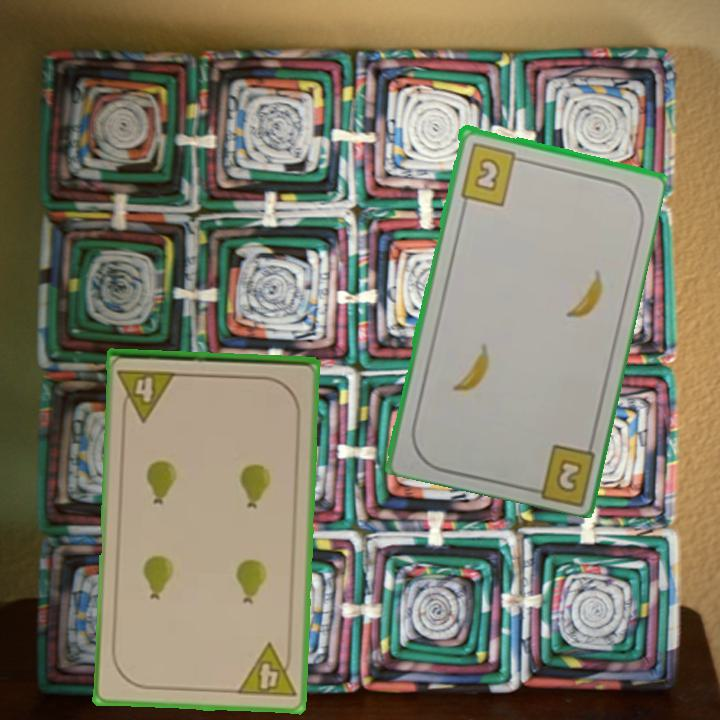2b: (457, 138, 527, 208), (552, 454, 585, 495)
4p: (233, 640, 298, 701), (114, 366, 180, 424)
